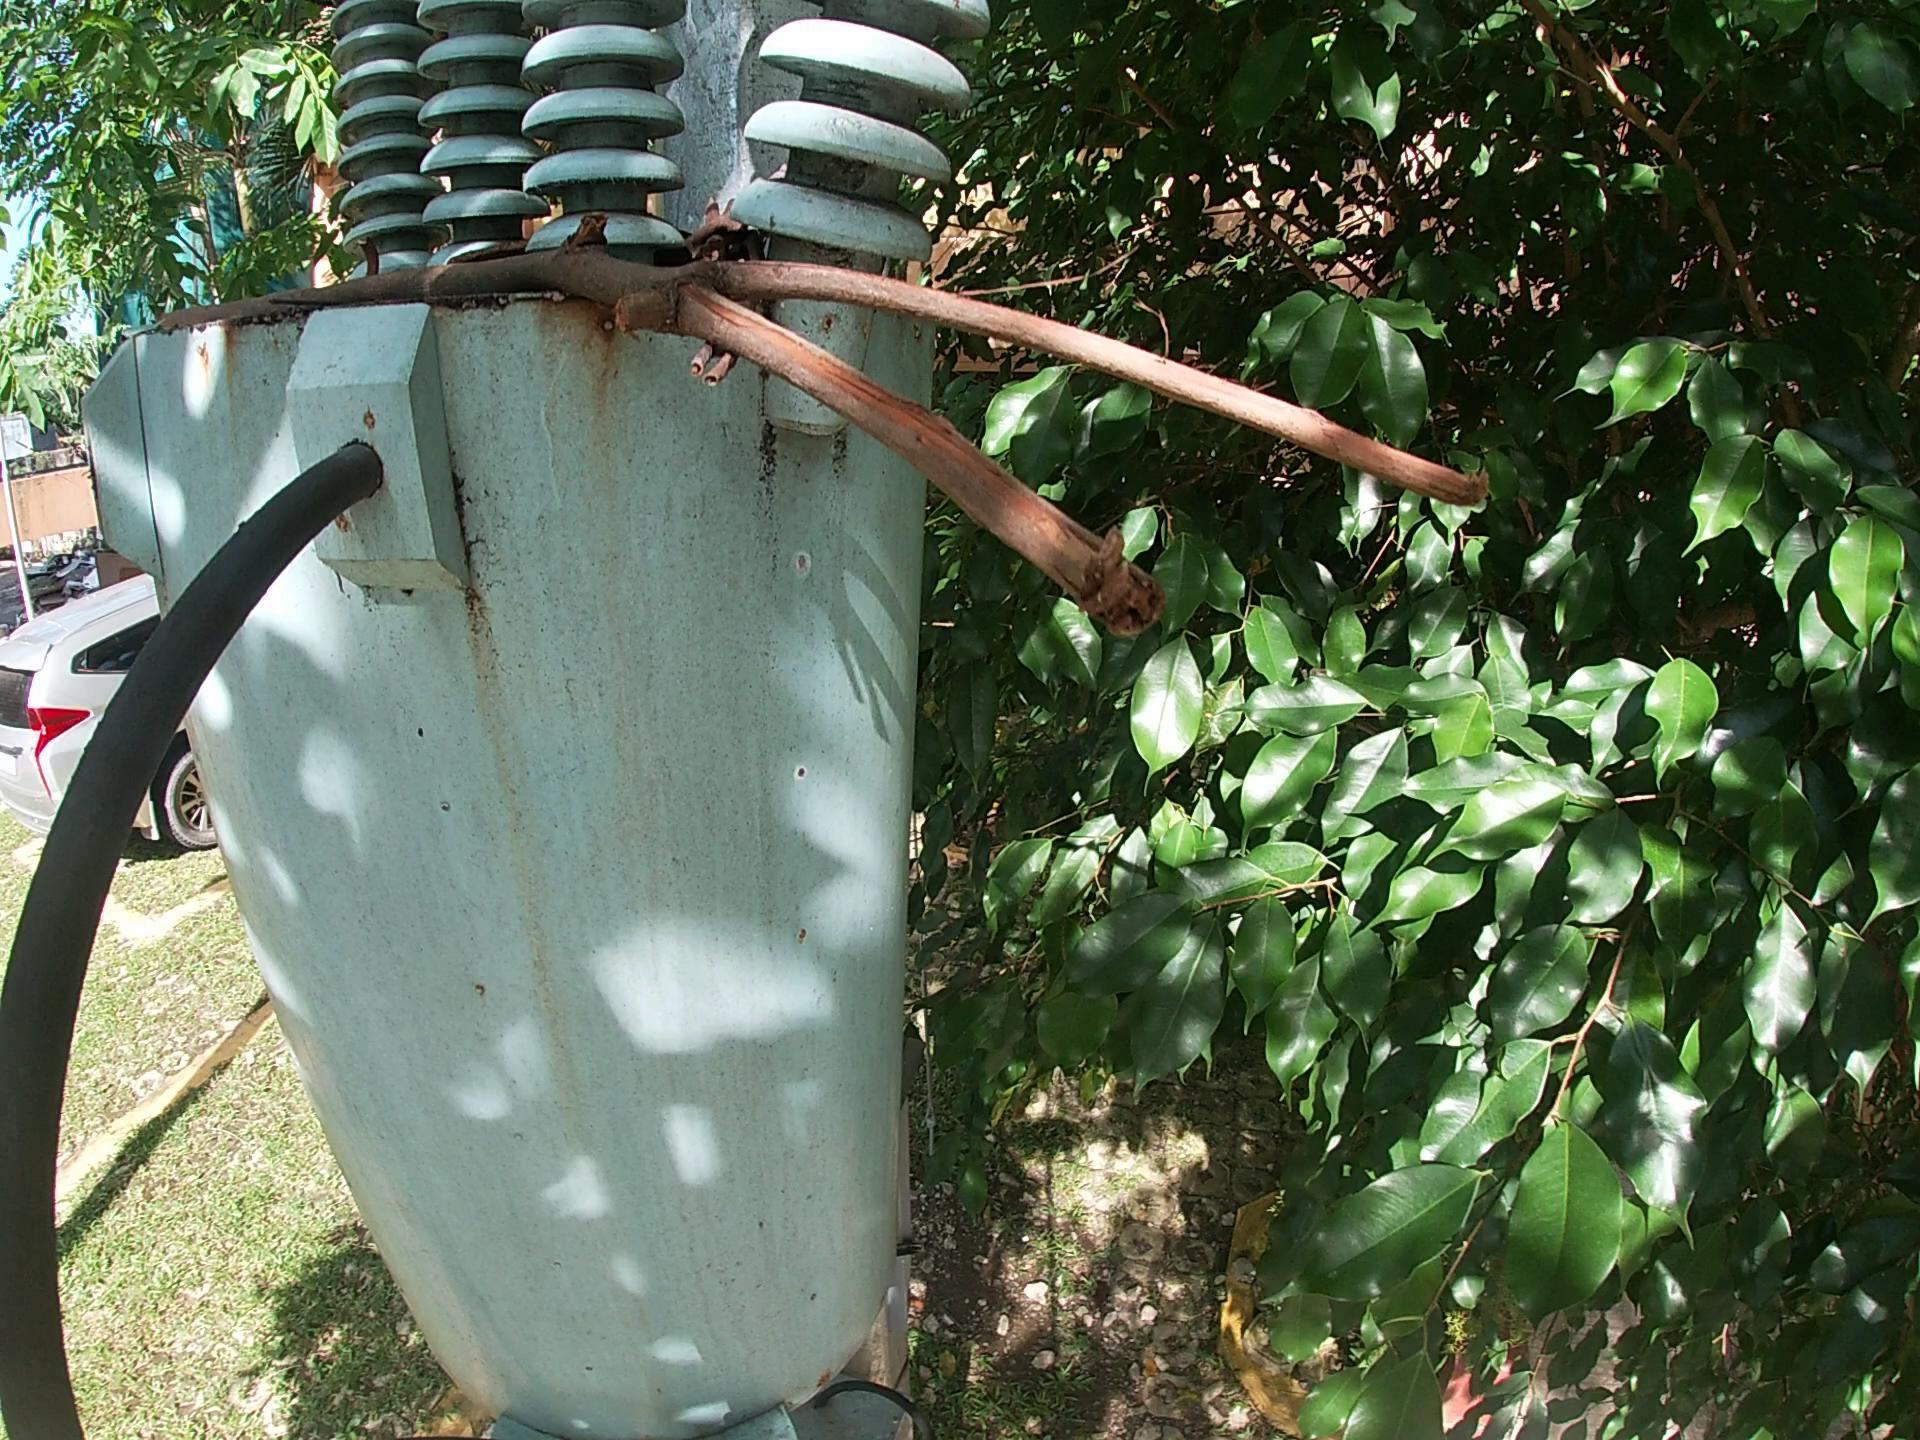mahogany fruit: (352, 236, 387, 278)
tree branch: (136, 200, 1497, 641), (671, 188, 771, 396)
